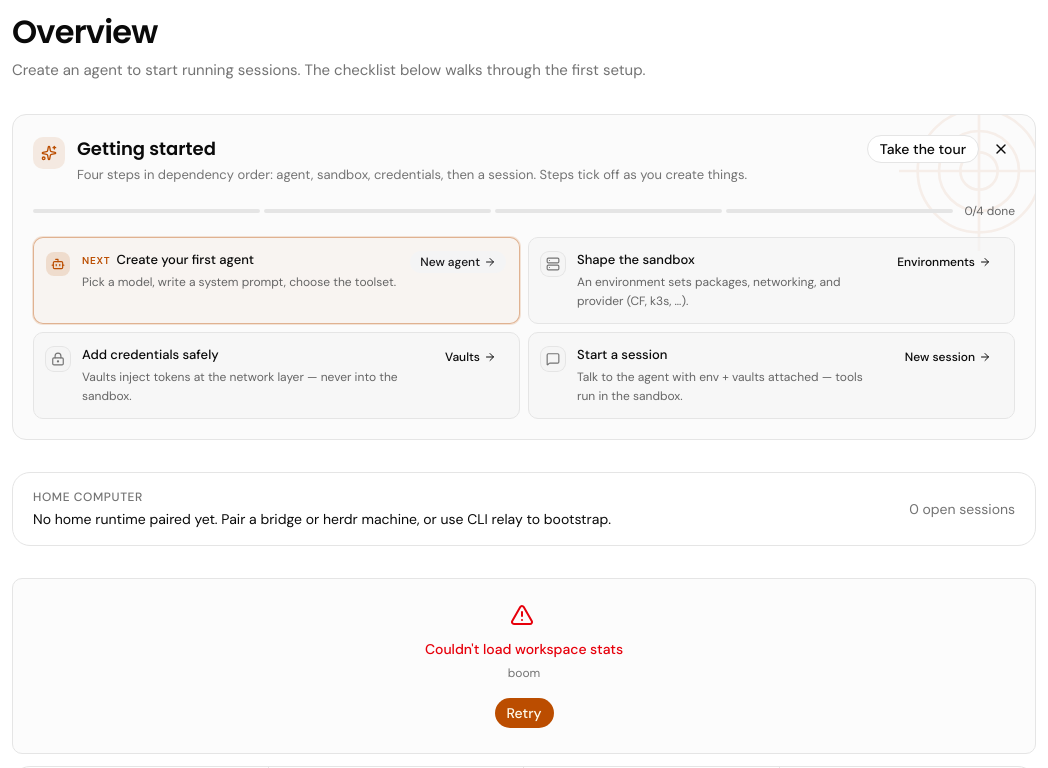
<Dashboard /> › retries /v1/stats from the section-level error action
This screenshot has width=1048, height=768.
Check: the text "Couldn't load workspace stats" is shown, box [425,640,623,658]
Click the button "Retry": click(524, 713) [494,697,554,729]
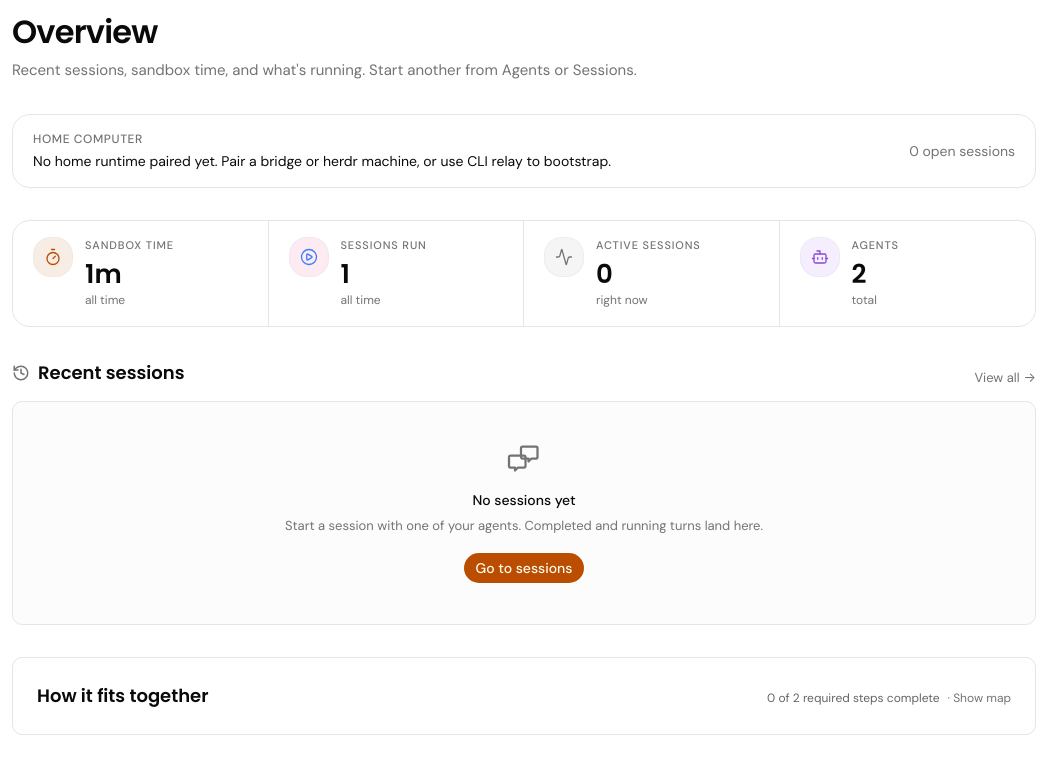
Check: the text "2" is shown, box [852,256,866,292]
Check: the text "Couldn't load workspace stats" is gone
